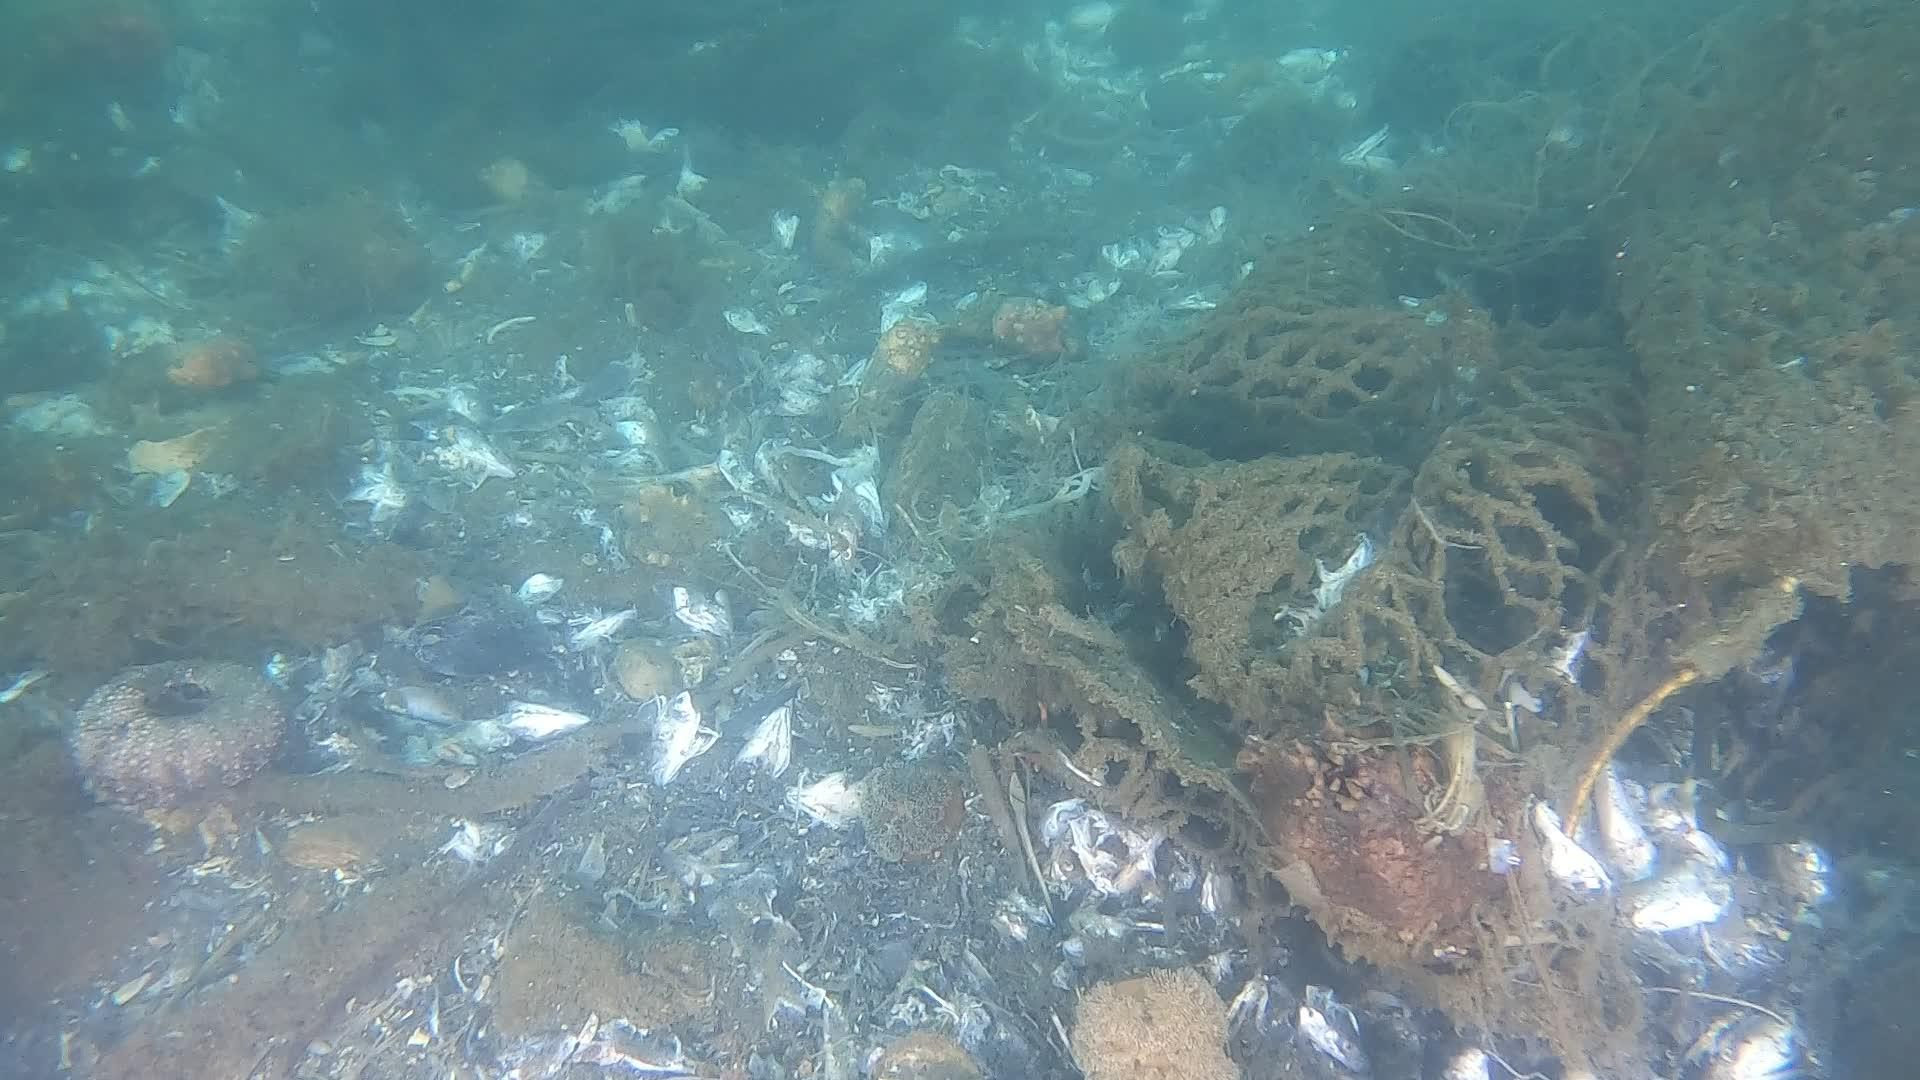fish net: (1096, 0, 1920, 676)
